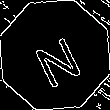N_NW: (26, 24, 84, 86)
